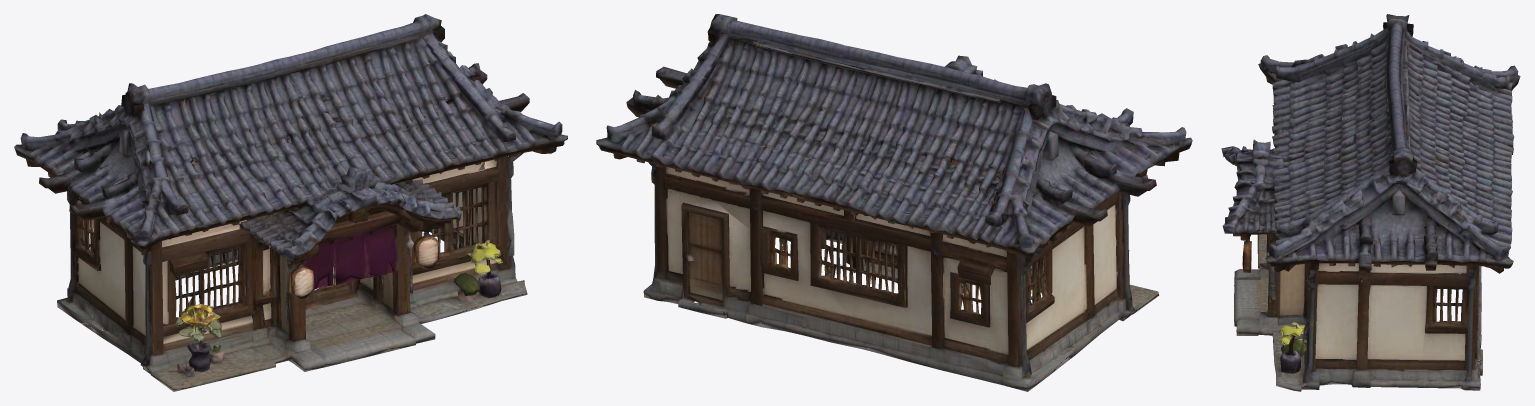
The picture shows the model from 3 angles, left to right: view 1: azimuth 30°, elevation 25°; view 2: azimuth 150°, elevation 25°; view 3: azimuth 270°, elevation 25°; orthographic projection. The views are drawn at different scales.
Visible parts, largest first — view 1: compact__hotel_1__native_mobile; view 2: compact__hotel_1__native_mobile; view 3: compact__hotel_1__native_mobile.
Boxes of the visible parts, x1,y1,x2,y2 form: compact__hotel_1__native_mobile: (14, 14, 567, 391); compact__hotel_1__native_mobile: (596, 14, 1192, 391); compact__hotel_1__native_mobile: (1221, 14, 1520, 391).
Size of the model in its own units: 1 by 0.5104 by 0.6061.
1 material, 1 textured.
